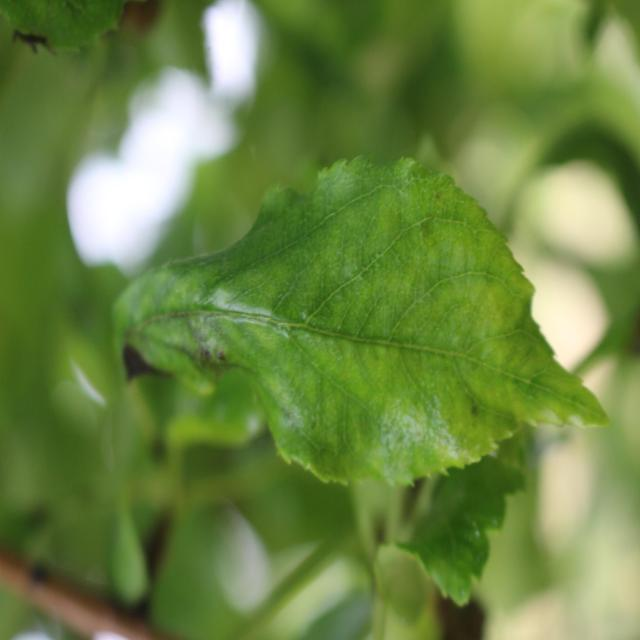rust: (112, 154, 611, 490)
